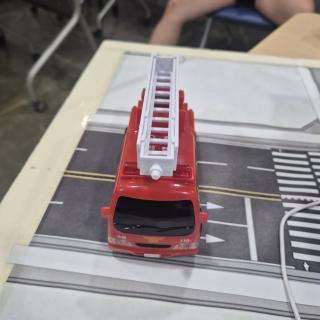Fire_truck: (101, 54, 208, 257)
